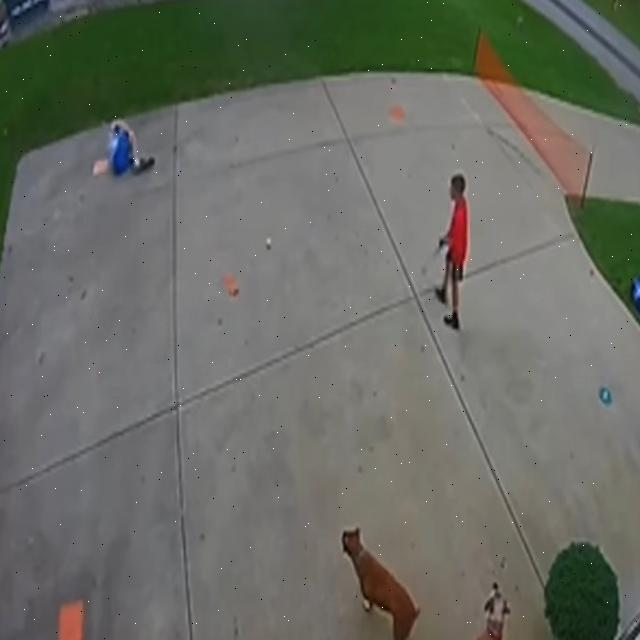fallen: (94, 119, 155, 175)
standing: (435, 173, 469, 329)
